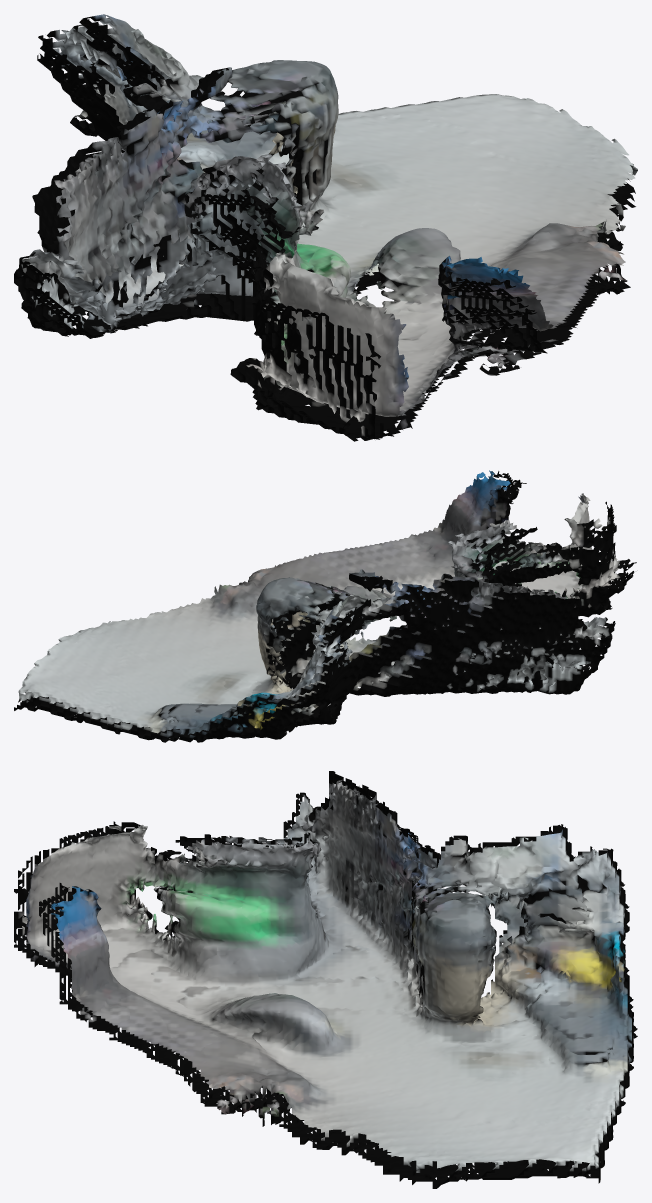
3 renders of one model, top to bottom at view 1: azimuth 30°, elevation 25°; view 2: azimuth 150°, elevation 25°; view 3: azimuth 270°, elevation 25°, orthographic. The views are drawn at different scales.
Size of the model in its own units: 0.626 by 0.1937 by 0.6019.
